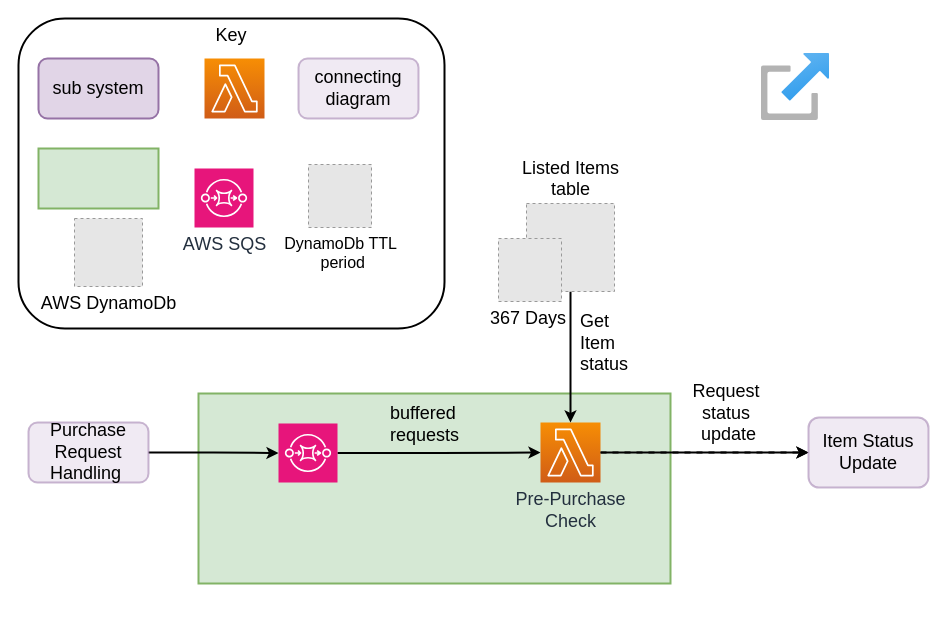
The diagram is 946 pixels wide and 629 high, and some of its shapes have lost their labels. Grey dashed boxes stand in for pictures. Here are the shapes that lost their labels. From the top down, the box of each, then its label:
(203, 57, 265, 119): AWS Lambda
(761, 53, 829, 120): Parent
(37, 147, 159, 209): Code repo
(277, 422, 338, 483): Pre-purchase check queue
(197, 392, 671, 584): pre-purchasing-checks
